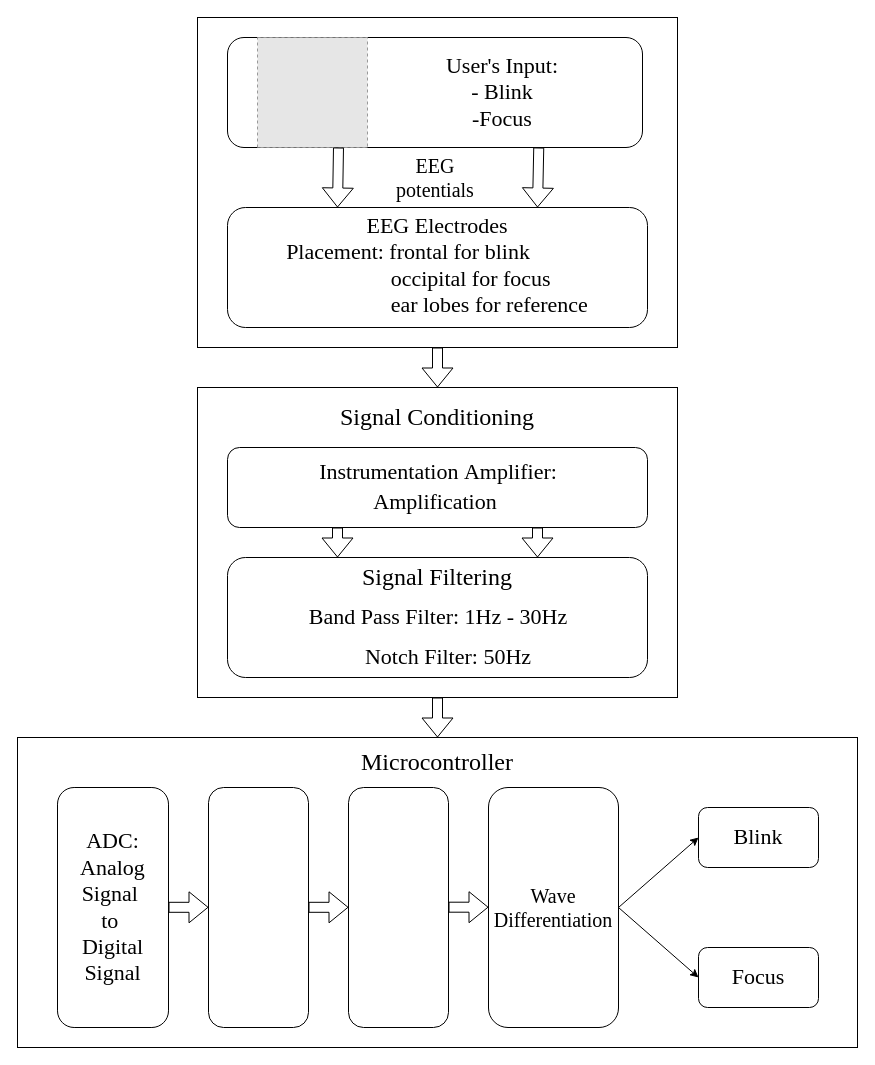
The diagram is 875 pixels wide and 1065 high, and some of its shapes have lost their labels. Grey dashed boxes stand in for pictures. The shapes that lost their labels are listed below. From the top down, each one's centre as x and y in pixels, then its label:
the point at 258,907: Hann Window
the point at 398,907: Fast Fourier Transform
